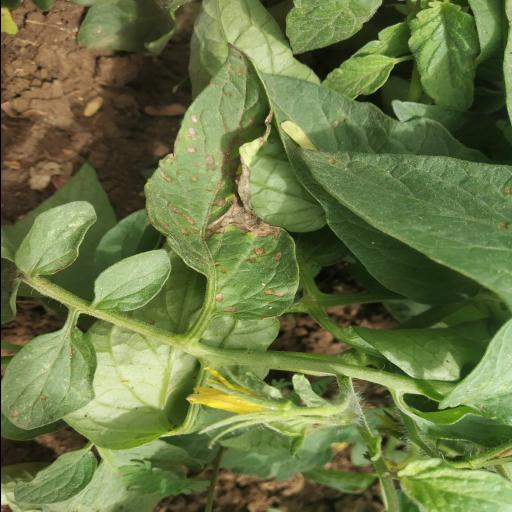Early Blight: (144, 42, 299, 324)
